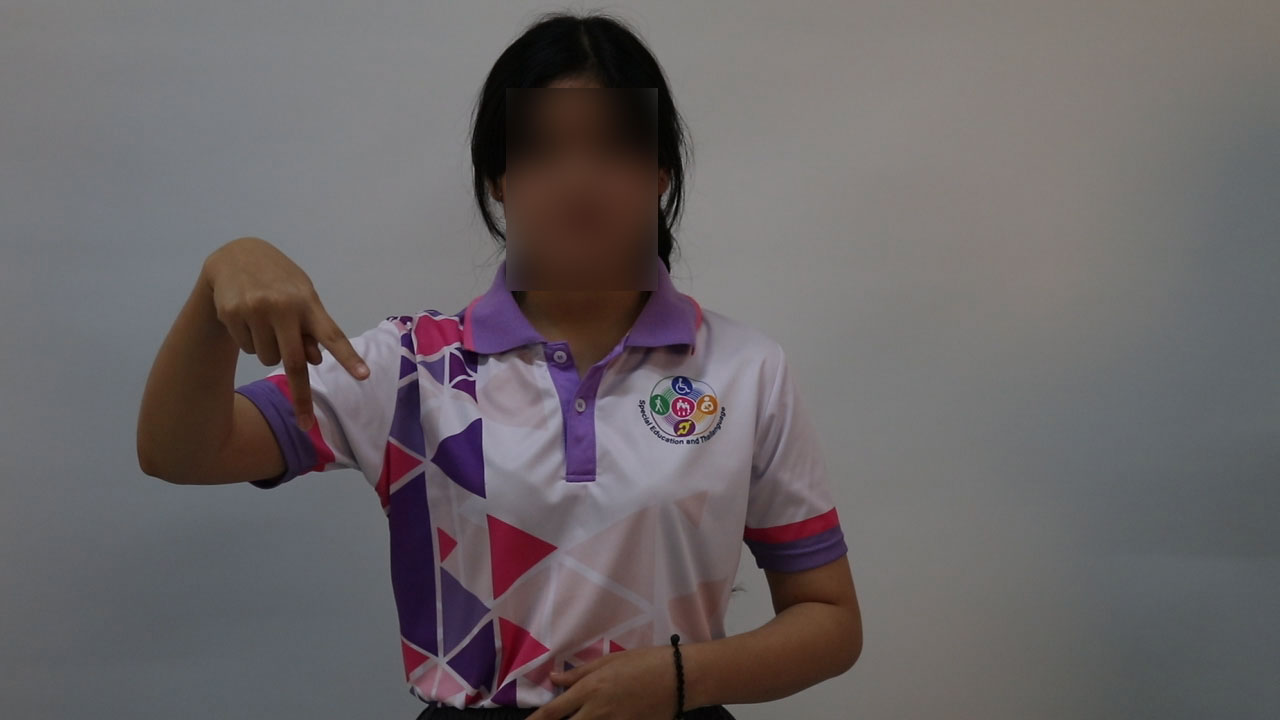por: (191, 212, 376, 437)
